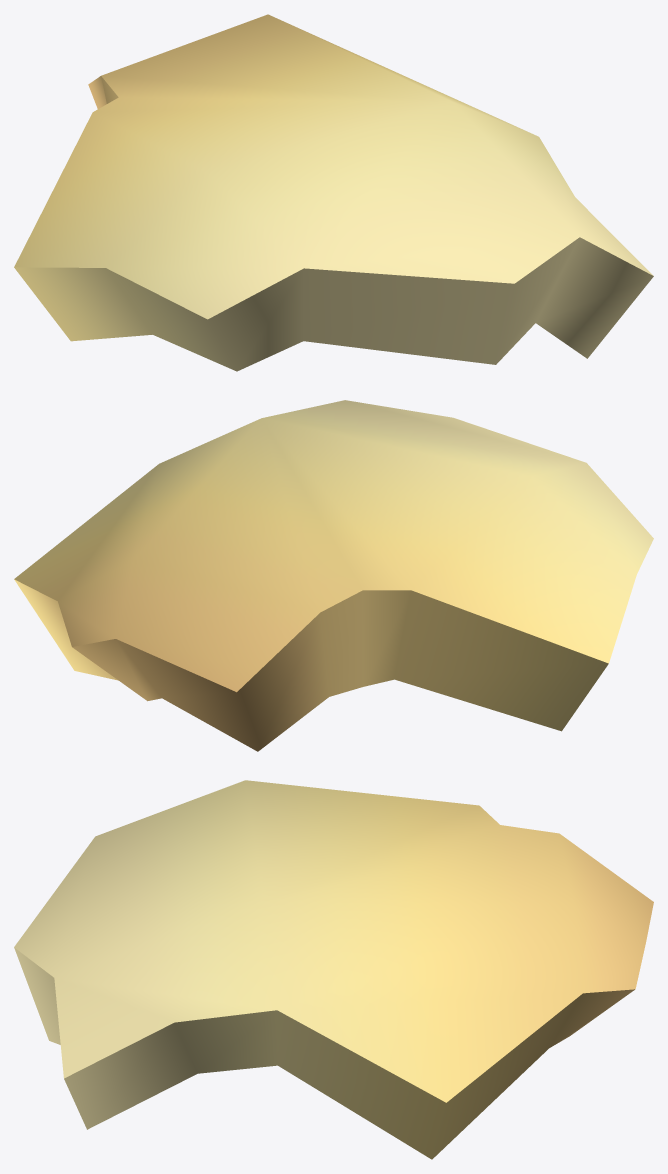
File: Egg_Particle_Grey_002.fbx
3 renders of one model, top to bottom at view 1: azimuth 30°, elevation 25°; view 2: azimuth 150°, elevation 25°; view 3: azimuth 270°, elevation 25°, orthographic. The views are drawn at different scales.
Visible parts, largest first — view 1: Egg_Particle_Grey_002; view 2: Egg_Particle_Grey_002; view 3: Egg_Particle_Grey_002.
Boxes of the visible parts, x1=… form: Egg_Particle_Grey_002: x1=14, y1=14, x2=653, y2=371; Egg_Particle_Grey_002: x1=14, y1=400, x2=653, y2=751; Egg_Particle_Grey_002: x1=14, y1=780, x2=653, y2=1159.
Bounding box in the file's own units: 1.52 × 0.5616 × 1.55.
